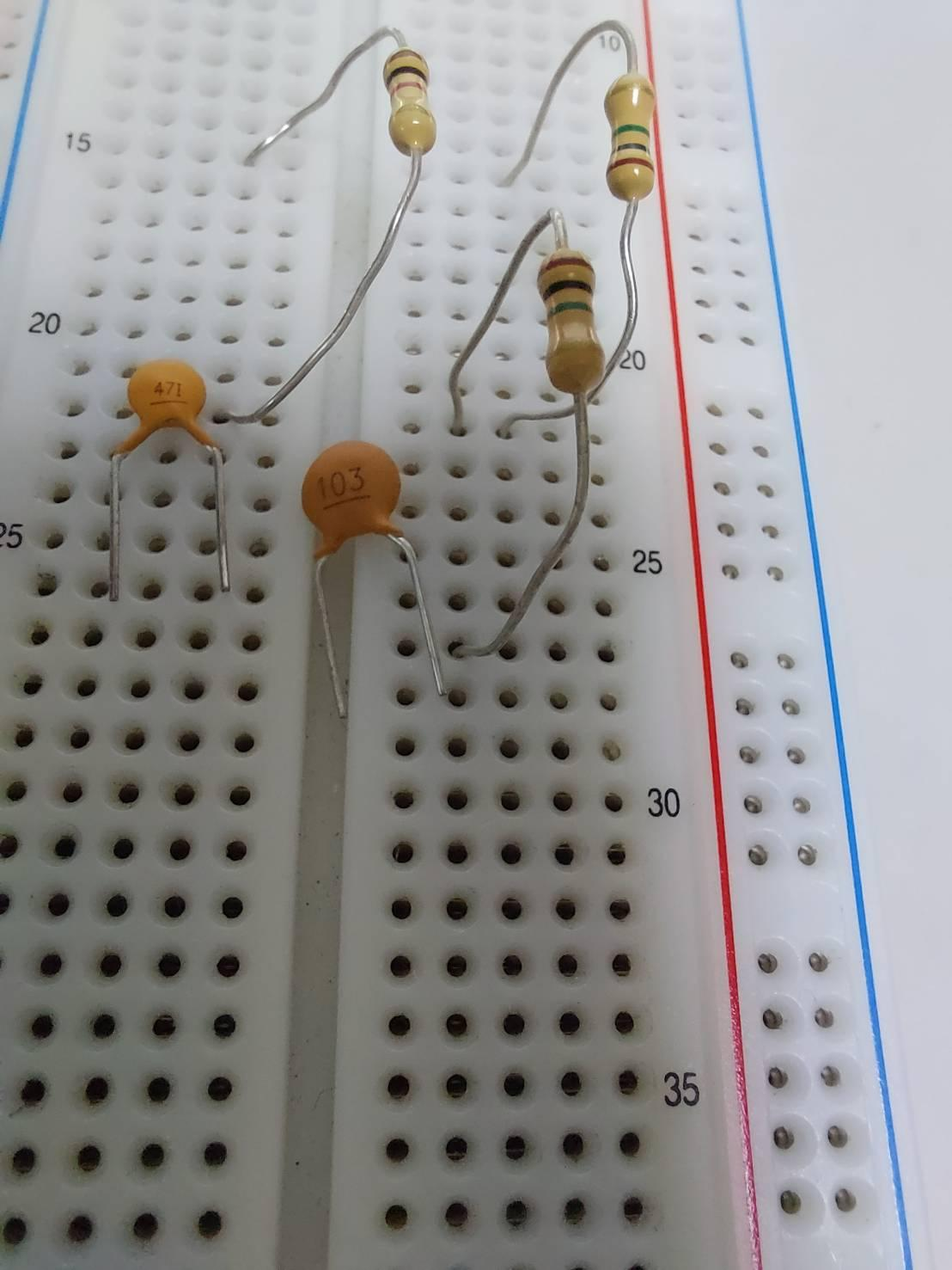resistor: (529, 242, 611, 391), (603, 70, 662, 199), (383, 47, 444, 158)
